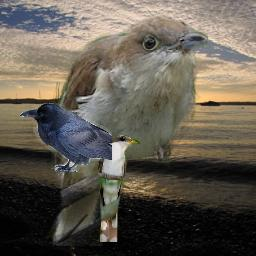Crow: (20, 103, 112, 172)
Cuckoo: (46, 14, 208, 246), (97, 134, 140, 242)
